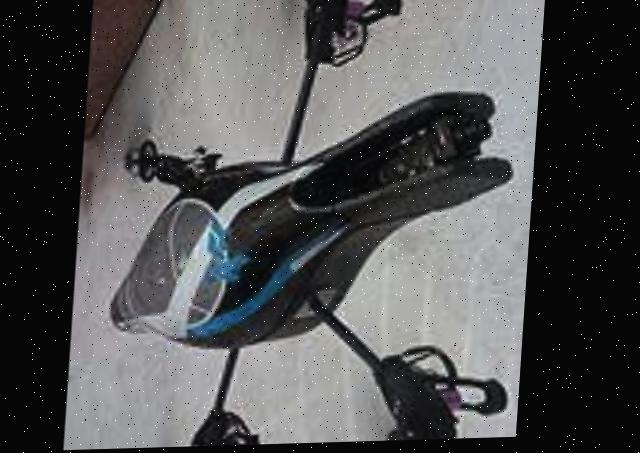drone: (93, 0, 546, 450)
